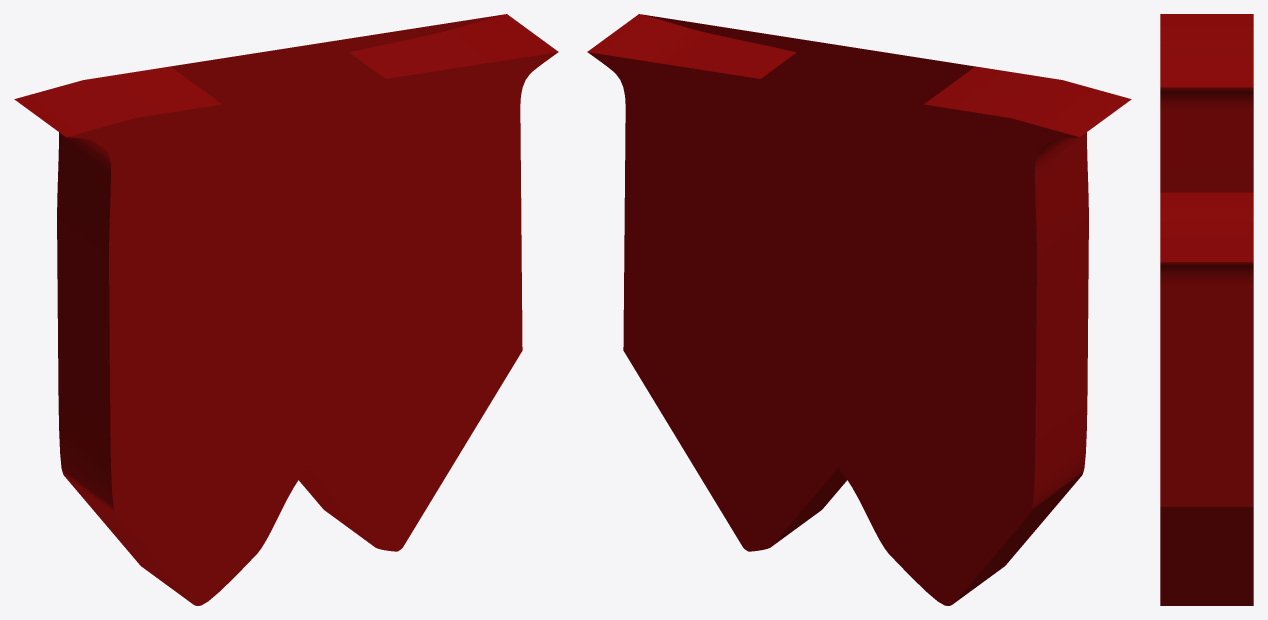
3 renders of one model, left to right at view 1: azimuth 30°, elevation 25°; view 2: azimuth 150°, elevation 25°; view 3: azimuth 270°, elevation 25°, orthographic. The views are drawn at different scales.
Visible parts, largest first — view 1: polySurface139; view 2: polySurface139; view 3: polySurface139.
Part boxes in pixels (x1=…): polySurface139: x1=14, y1=14, x2=558, y2=605; polySurface139: x1=587, y1=14, x2=1131, y2=605; polySurface139: x1=1160, y1=14, x2=1253, y2=605.
Size of the model in its own units: 3.87 by 3.78 by 0.7068.
